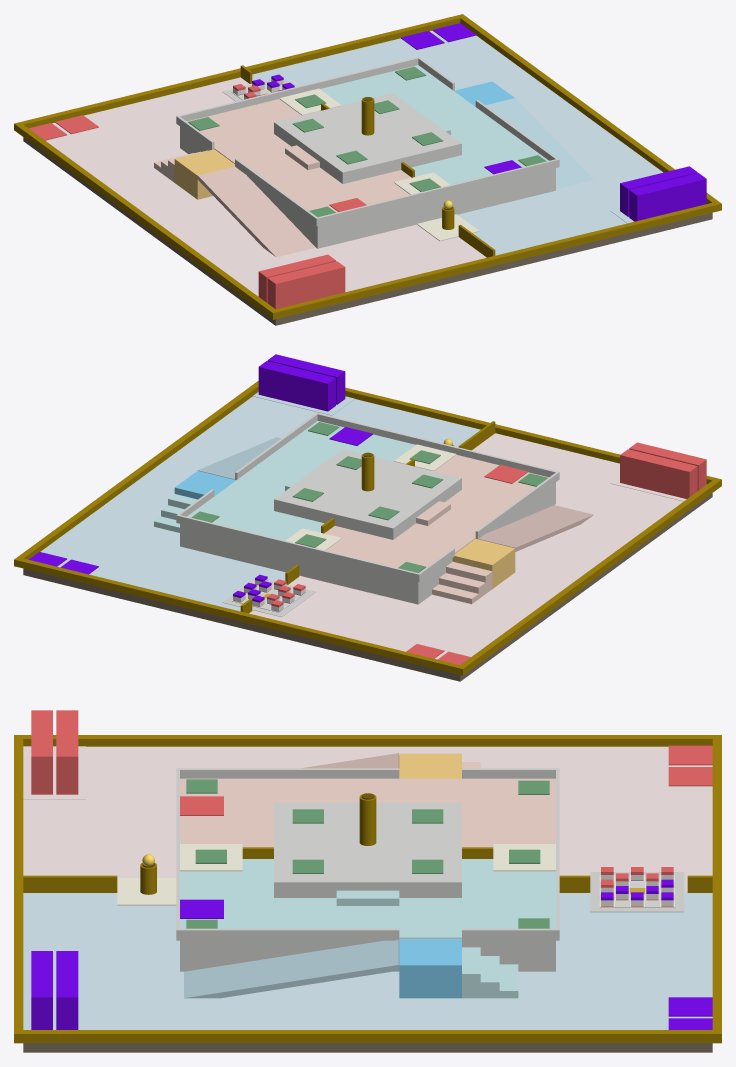
File: robocon2027_field_props.glb
3 renders of one model, top to bottom at view 1: azimuth 30°, elevation 25°; view 2: azimuth 150°, elevation 25°; view 3: azimuth 270°, elevation 25°, orthographic. The views are drawn at different scales.
Visible parts, largest first — view 1: ground_red_002, ground_blue_003, level2_block_011, level1_top_red_009, level1_top_blue_010, level1_block_008, border_004, ground_base_001, ramp_113, border_005, border_007, border_006 (+10 smaller); view 2: ground_red_002, ground_blue_003, level2_block_011, level1_top_red_009, level1_top_blue_010, level1_block_008, border_005, ground_base_001, border_007, border_006, border_004, ramp_113 (+12 smaller); view 3: ground_blue_003, ground_red_002, level1_top_blue_010, level1_top_red_009, level2_block_011, border_006, border_007, ramp_118, ground_base_001, level1_block_008, transfer_area_117, border_004 (+31 smaller).
Boxes of the visible parts, <box> form: ground_red_002: <box>46,77,486,296</box>; ground_blue_003: <box>251,30,663,255</box>; level2_block_011: <box>274,93,461,183</box>; level1_top_red_009: <box>187,99,411,212</box>; level1_top_blue_010: <box>320,65,548,184</box>; level1_block_008: <box>180,126,555,248</box>; border_004: <box>269,202,721,319</box>; ground_base_001: <box>23,137,712,325</box>; ramp_113: <box>197,166,315,257</box>; border_005: <box>14,14,465,131</box>; border_007: <box>14,122,278,319</box>; border_006: <box>457,14,721,211</box>; ground_red_002: <box>249,433,683,659</box>; ground_blue_003: <box>40,396,480,611</box>; level2_block_011: <box>274,449,461,539</box>; level1_top_red_009: <box>324,455,548,567</box>; level1_top_blue_010: <box>187,421,415,540</box>; level1_block_008: <box>180,482,555,604</box>; border_005: <box>14,557,466,675</box>; ground_base_001: <box>23,493,712,681</box>; border_007: <box>457,478,721,673</box>; border_006: <box>14,381,258,565</box>; border_004: <box>345,387,721,486</box>; ramp_113: <box>478,505,593,551</box>; ground_blue_003: <box>23,892,712,1029</box>; ground_red_002: <box>23,746,712,892</box>; level1_top_blue_010: <box>180,859,555,938</box>; level1_top_red_009: <box>180,778,555,847</box>; level2_block_011: <box>274,802,461,897</box>; border_006: <box>14,1030,721,1043</box>; border_007: <box>14,735,721,746</box>; ramp_118: <box>184,940,399,998</box>; ground_base_001: <box>23,1043,712,1052</box>; level1_block_008: <box>180,938,555,971</box>; transfer_area_117: <box>399,939,461,998</box>; border_004: <box>14,735,23,1043</box>.
Size of the model in its own units: 11.3 by 1.96 by 11.3.
